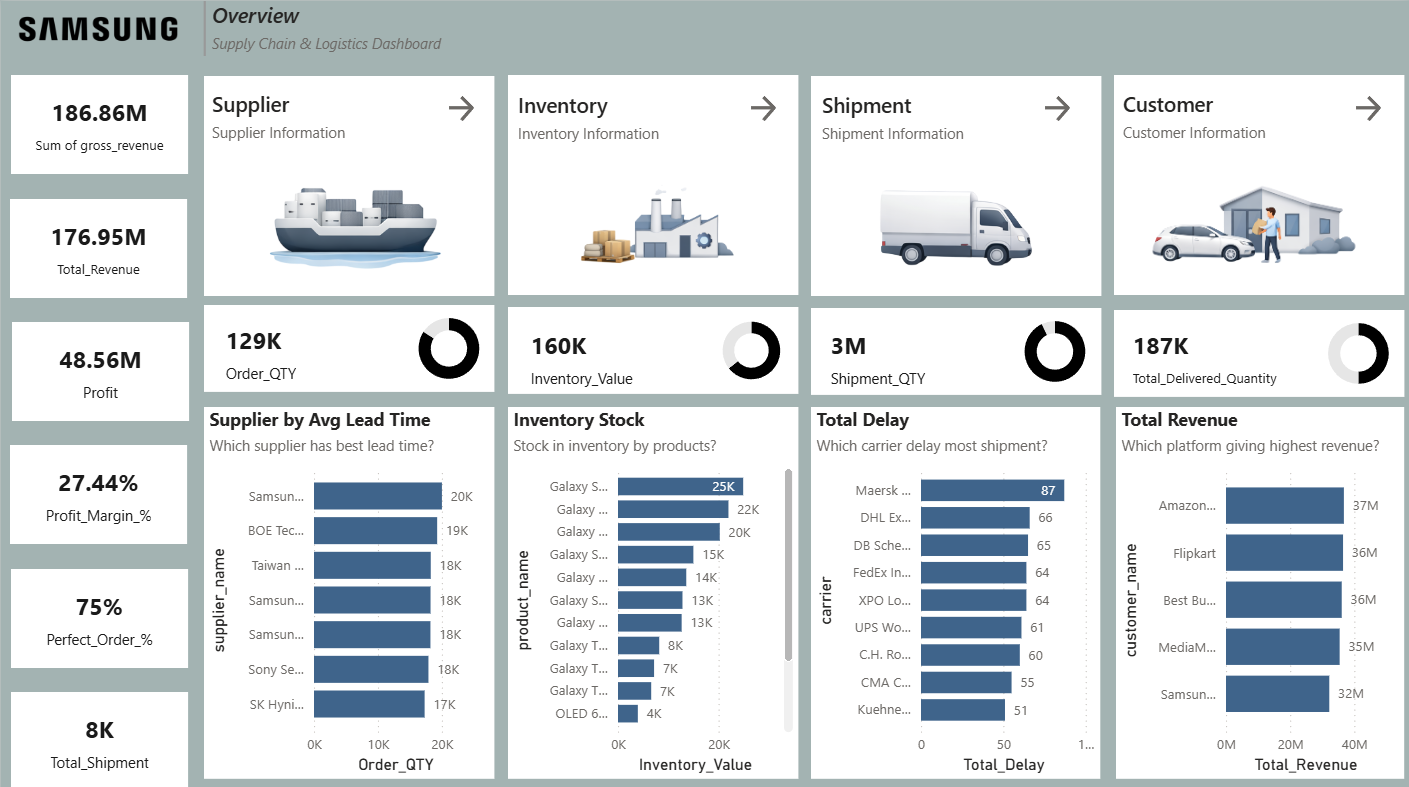

The page's visual inventory and layout, read from the dashboard file:
{"tool":"powerbi","page":{"name":"Overview","canvas":[1280,720],"ordinal":1},"visuals":[{"type":"shape","box":[184.9,68.2,264,200],"z":0},{"type":"shape","box":[1011.8,67.3,264,200],"z":1000},{"type":"shape","box":[736.2,67.9,264,200],"z":2000},{"type":"shape","box":[460.5,67.6,264,200],"z":3000},{"type":"image","box":[482.1,145.4,220,110.4],"z":4000},{"type":"image","box":[208.3,142.7,220,110],"z":5000},{"type":"image","box":[756.8,145.4,220,110.4],"z":6000},{"type":"image","box":[1033.3,145.4,220,110.4],"z":7000},{"type":"actionButton","box":[1226,82,34,32],"z":8000},{"type":"actionButton","box":[944,82,34,32],"z":9000},{"type":"actionButton","box":[676,82,34,32],"z":10000},{"type":"actionButton","box":[402,82,36,32],"z":11000},{"type":"shape","title":"Supplier","box":[192.1,80.8,133.8,48.5],"z":12000},{"type":"shape","title":"Inventory","box":[470.4,81.7,136.5,48.5],"z":13000},{"type":"shape","title":"Shipment","box":[746,82,134,48],"z":14000},{"type":"shape","title":"Customer","box":[1019.9,80.8,136.5,48.5],"z":15000},{"type":"shape","title":"Overview","box":[192.1,0,244.2,50.3],"z":16000},{"type":"shape","box":[167,0,35.9,50.3],"z":17000},{"type":"image","box":[0,0,169.7,50.3],"z":18000},{"type":"cardVisual","fields":{"Data":["MeasuresTable.Total_Revenue"]},"box":[8.4,179.6,161,90],"z":19000},{"type":"cardVisual","fields":{"Data":["MeasuresTable.Profit"]},"box":[9.9,291.8,161,90],"z":20000},{"type":"cardVisual","fields":{"Data":["MeasuresTable.Total_Shipment"]},"box":[8.8,628.4,161,90],"z":21000},{"type":"cardVisual","fields":{"Data":["MeasuresTable.Profit_Margin_%"]},"box":[8.1,404,161,90],"z":23000},{"type":"cardVisual","fields":{"Data":["Sum(fact_sales.gross_revenue)"]},"box":[9.2,67.3,161,90],"z":24000},{"type":"cardVisual","fields":{"Data":["MeasuresTable.Perfect_Order_%"]},"box":[9.5,516.2,161,90],"z":25000},{"type":"shape","box":[184.9,276.5,264,79],"z":26000},{"type":"shape","box":[460.5,278,264,79],"z":27000},{"type":"shape","box":[736.2,279.5,264,79],"z":28000},{"type":"shape","box":[1011.8,281,264,79],"z":29000},{"type":"cardVisual","fields":{"Data":["MeasuresTable.Order_QTY"]},"box":[187.6,276.5,168.8,79],"z":30000},{"type":"cardVisual","fields":{"Data":["MeasuresTable.Inventory_Value"]},"box":[464.1,281,128.4,75.4],"z":31000},{"type":"cardVisual","fields":{"Data":["MeasuresTable.Total_Shipment_QTY"]},"box":[737.1,281,130.2,75.4],"z":32000},{"type":"cardVisual","fields":{"Data":["MeasuresTable.Total_Delivered_Quantity"]},"box":[1011.8,281,173.3,79],"z":33000},{"type":"clusteredBarChart","title":"Supplier by Avg Lead Time","fields":{"Category":["dim_supplier.supplier_name"],"Y":["MeasuresTable.Order_QTY"]},"box":[184.9,369,263.9,337.6],"z":34000},{"type":"clusteredBarChart","title":"Inventory Stock","fields":{"Y":["MeasuresTable.Inventory_Value"],"Category":["dim_product.product_name"]},"box":[460.5,369,263.9,337.6],"z":35000},{"type":"clusteredBarChart","title":"Total Delay","fields":{"Y":["MeasuresTable.Total_Delay"],"Category":["fact_shipment.carrier"]},"box":[736.2,369,263,337.6],"z":36000},{"type":"clusteredBarChart","title":"Total Revenue","fields":{"Y":["MeasuresTable.Total_Revenue"],"Category":["dim_customer.customer_name"]},"box":[1013.6,369,262.1,337.6],"z":37000},{"type":"donutChart","fields":{"Y":["MeasuresTable.Inventory_Value","MeasuresTable.Safety_Stock"]},"box":[640.1,280.1,84.4,75.4],"z":38000},{"type":"donutChart","fields":{"Y":["MeasuresTable.Total_Shipment","MeasuresTable.Total_Delay"]},"box":[917.5,279.2,81.7,79],"z":39000},{"type":"donutChart","fields":{"Y":["MeasuresTable.Total_Delivered_Quantity","MeasuresTable.Total_QTY_Delay"]},"box":[1193.1,281,82.6,79],"z":40000},{"type":"donutChart","fields":{"Y":["MeasuresTable.Order_QTY","MeasuresTable.Defect_Rate"]},"box":[365.4,276.5,83.5,79],"z":41000}]}

Visuals, with their boxes in screenshot pixels (x1, y1, x2, y2), scaled from the page's 1280x720 canvas onto the 1409x787 screenshot:
shape: BBox(204, 75, 494, 293)
shape: BBox(1114, 74, 1404, 292)
shape: BBox(810, 74, 1101, 293)
shape: BBox(507, 74, 798, 293)
image: BBox(531, 159, 773, 280)
image: BBox(229, 156, 471, 276)
image: BBox(833, 159, 1075, 280)
image: BBox(1137, 159, 1380, 280)
actionButton: BBox(1350, 90, 1387, 125)
actionButton: BBox(1039, 90, 1077, 125)
actionButton: BBox(744, 90, 782, 125)
actionButton: BBox(443, 90, 482, 125)
"Supplier" shape: BBox(211, 88, 359, 141)
"Inventory" shape: BBox(518, 89, 668, 142)
"Shipment" shape: BBox(821, 90, 969, 142)
"Customer" shape: BBox(1123, 88, 1273, 141)
"Overview" shape: BBox(211, 0, 480, 55)
shape: BBox(184, 0, 223, 55)
image: BBox(0, 0, 187, 55)
cardVisual - MeasuresTable.Total_Revenue: BBox(9, 196, 186, 295)
cardVisual - MeasuresTable.Profit: BBox(11, 319, 188, 417)
cardVisual - MeasuresTable.Total_Shipment: BBox(10, 687, 187, 785)
cardVisual - MeasuresTable.Profit_Margin_%: BBox(9, 442, 186, 540)
cardVisual - Sum(fact_sales.gross_revenue): BBox(10, 74, 187, 172)
cardVisual - MeasuresTable.Perfect_Order_%: BBox(10, 564, 188, 663)
shape: BBox(204, 302, 494, 389)
shape: BBox(507, 304, 798, 390)
shape: BBox(810, 306, 1101, 392)
shape: BBox(1114, 307, 1404, 393)
cardVisual - MeasuresTable.Order_QTY: BBox(207, 302, 392, 389)
cardVisual - MeasuresTable.Inventory_Value: BBox(511, 307, 652, 390)
cardVisual - MeasuresTable.Total_Shipment_QTY: BBox(811, 307, 955, 390)
cardVisual - MeasuresTable.Total_Delivered_Quantity: BBox(1114, 307, 1305, 393)
"Supplier by Avg Lead Time" clusteredBarChart: BBox(204, 403, 494, 772)
"Inventory Stock" clusteredBarChart: BBox(507, 403, 797, 772)
"Total Delay" clusteredBarChart: BBox(810, 403, 1100, 772)
"Total Revenue" clusteredBarChart: BBox(1116, 403, 1404, 772)
donutChart - MeasuresTable.Inventory_Value x MeasuresTable.Safety_Stock: BBox(705, 306, 798, 389)
donutChart - MeasuresTable.Total_Shipment x MeasuresTable.Total_Delay: BBox(1010, 305, 1100, 392)
donutChart - MeasuresTable.Total_Delivered_Quantity x MeasuresTable.Total_QTY_Delay: BBox(1313, 307, 1404, 393)
donutChart - MeasuresTable.Order_QTY x MeasuresTable.Defect_Rate: BBox(402, 302, 494, 389)
